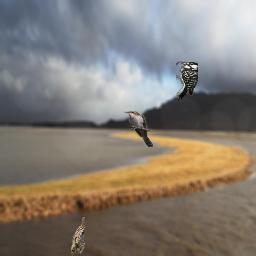Cuckoo: (124, 111, 153, 147)
Sparrow: (71, 216, 85, 256)
Woodpecker: (176, 61, 198, 101)
